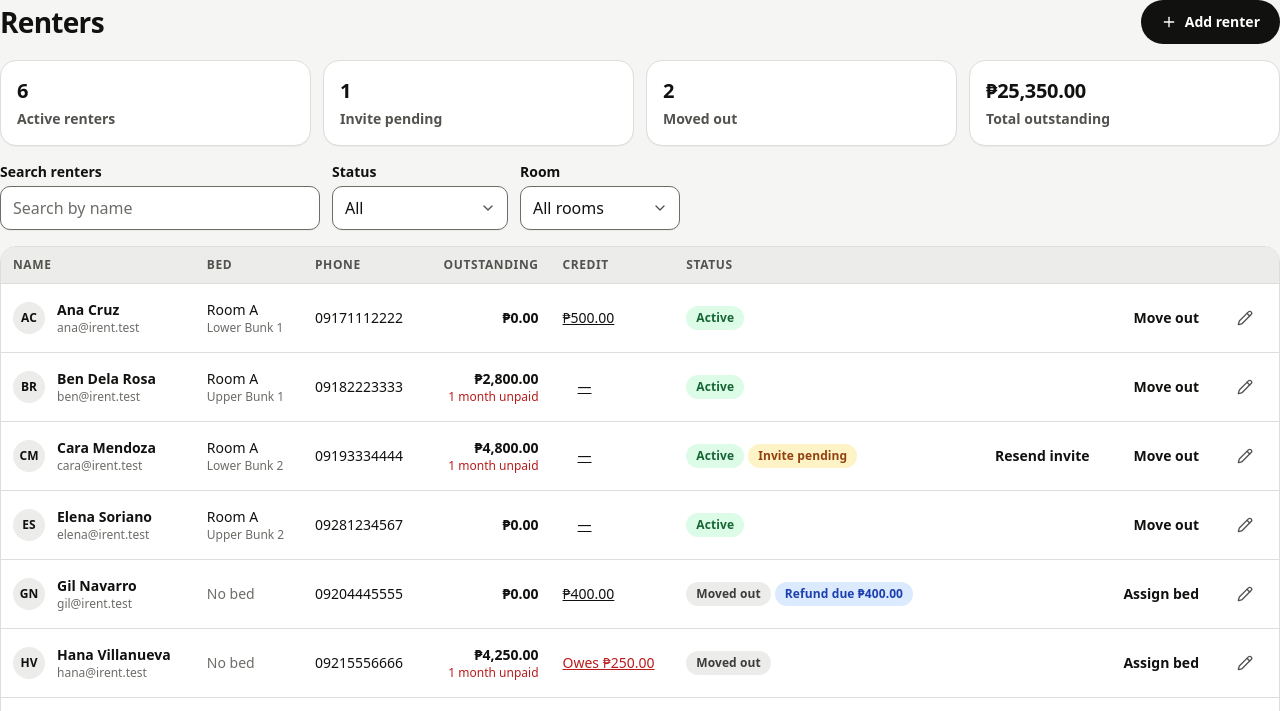
Test: AdminRentersPage (F14, R30-R32, R51, SC-29, SC-30, SC-51, SC-52, SC-64) › shows the summary strip and filters by status and room
The image size is (1280, 711).
expect the link "Ana Cruz" is shown: met, box [57,300,119,320]
Select "Moved out" in the dropdown labelled "Status" at (420, 208), box [332,186,508,230]
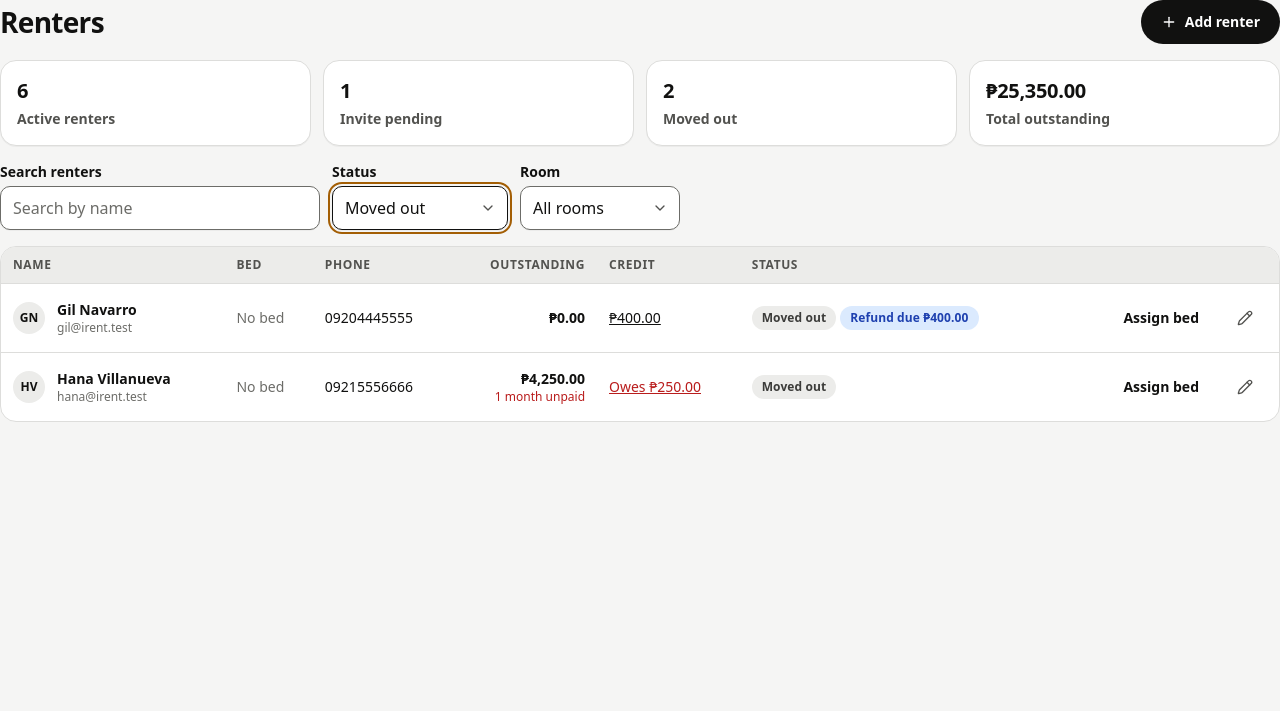
Select "All" in the dropdown labelled "Status" at (420, 208), box [332,186,508,230]
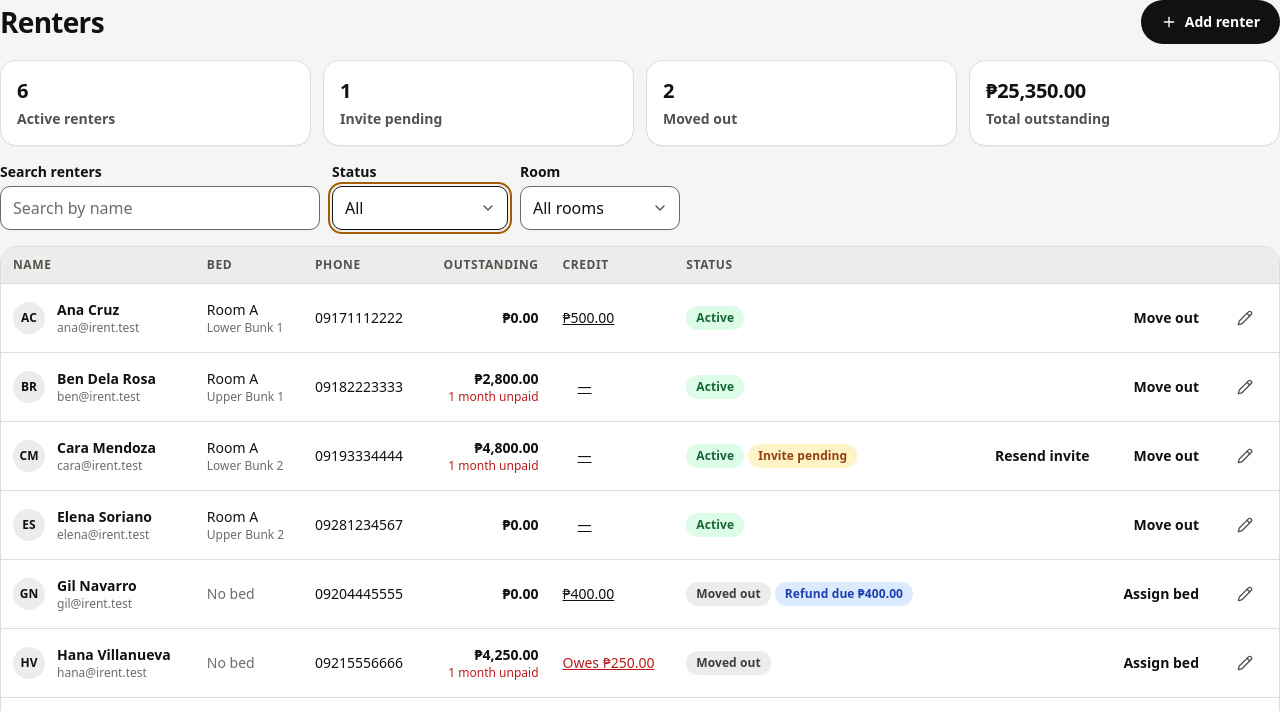
Select "Room B" in the dropdown labelled "Room" at (600, 208), box [520,186,680,230]
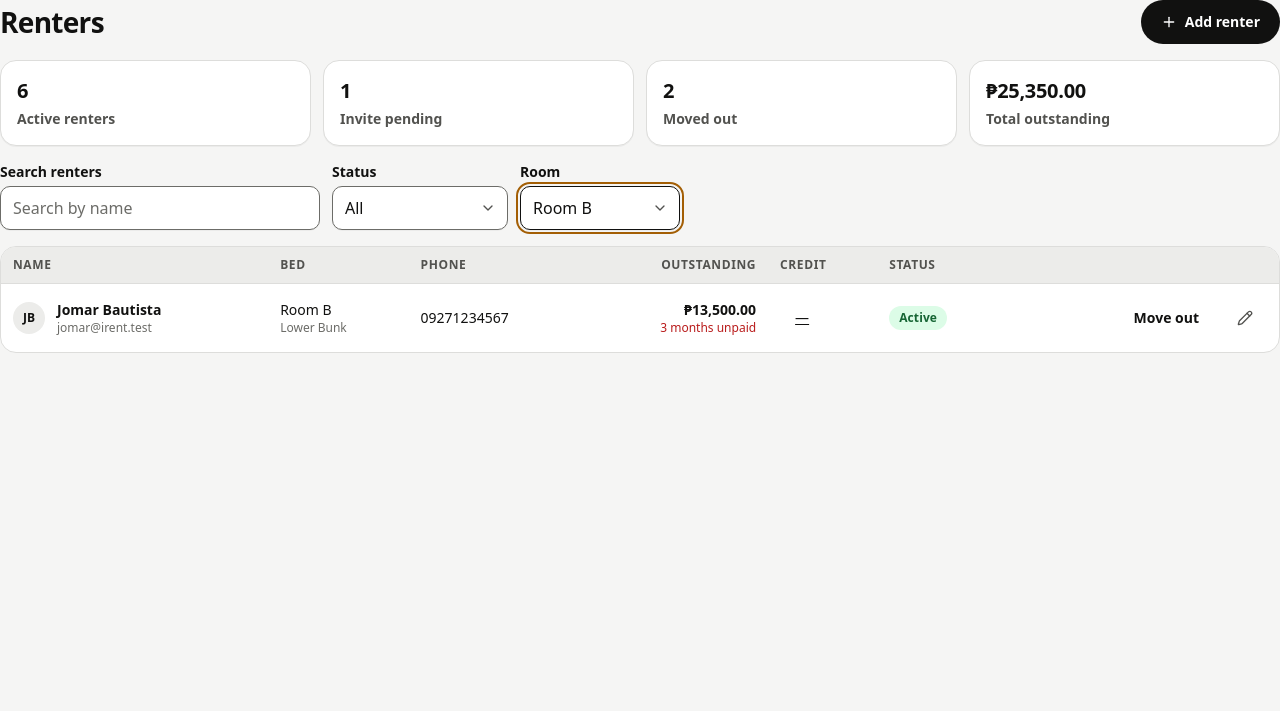
expect the text "3 months unpaid" is shown: met, box [660,319,756,336]
expect the number of rows is 2: met, box [1,247,1279,284]; [1,284,1279,352]
